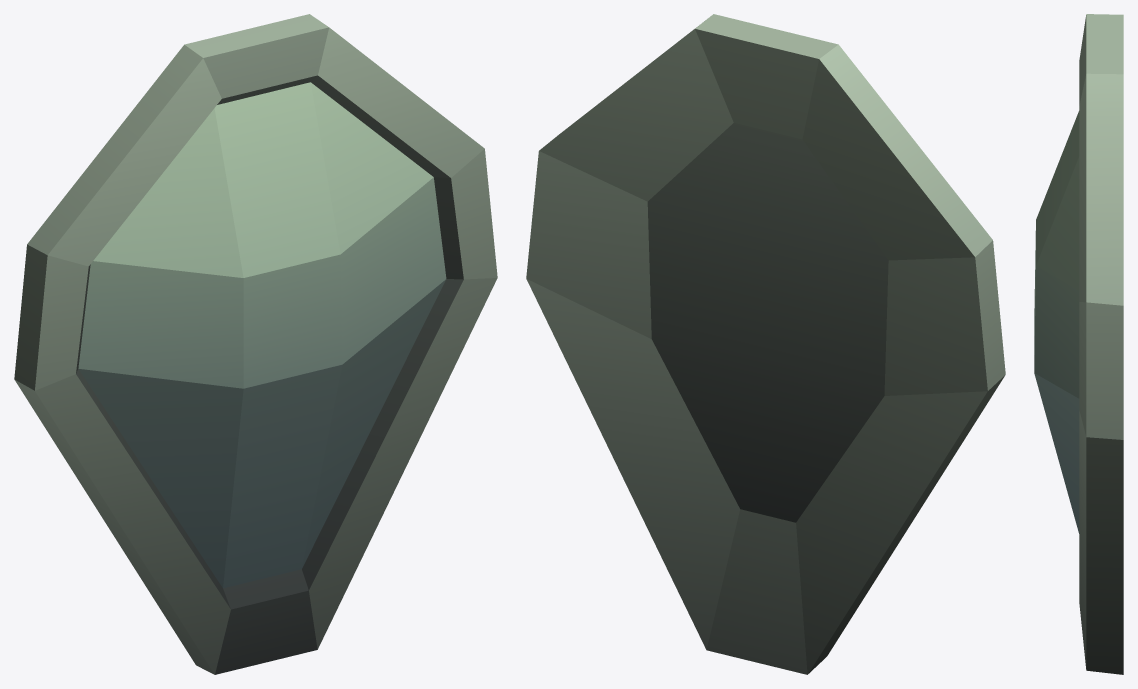
The model's file is shield_002.fbx.
The picture shows the model from 3 angles, left to right: view 1: azimuth 30°, elevation 25°; view 2: azimuth 150°, elevation 25°; view 3: azimuth 270°, elevation 25°; orthographic projection. The views are drawn at different scales.
Parts seen in each view (by area): view 1: shield.002; view 2: shield.002; view 3: shield.002.
Part boxes in pixels (x1=…): shield.002: x1=14, y1=14, x2=497, y2=674; shield.002: x1=526, y1=14, x2=1005, y2=674; shield.002: x1=1034, y1=14, x2=1123, y2=674.
Bounding box in the file's own units: 77.35 × 99.15 × 13.27.
